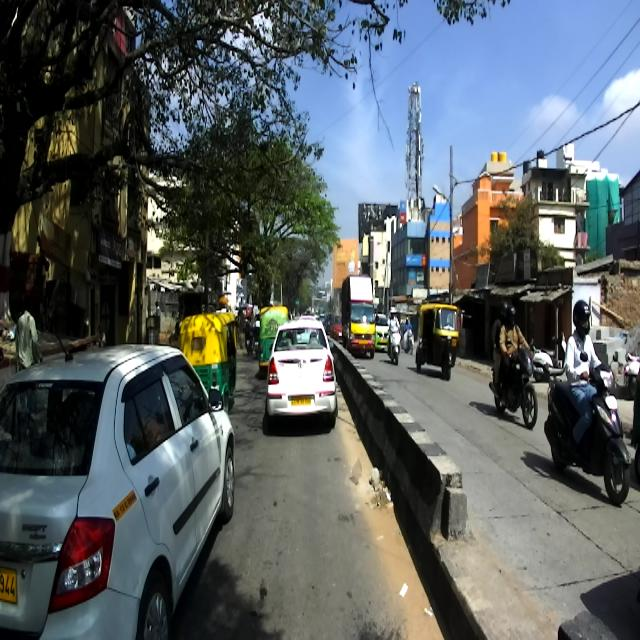car ahead at: (13, 342, 242, 640), (264, 314, 339, 438)
motorcycle ahead at: (546, 357, 632, 503)
